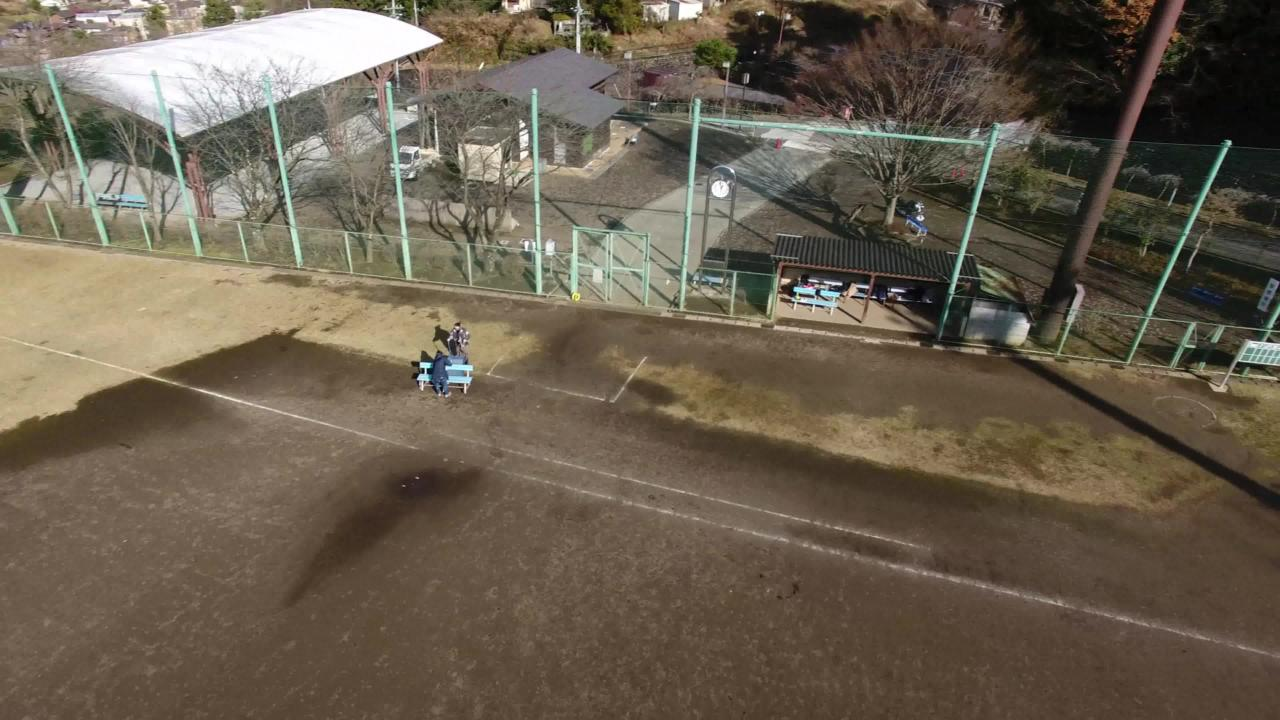person: (428, 346, 454, 404), (443, 333, 469, 391), (452, 304, 478, 362)
